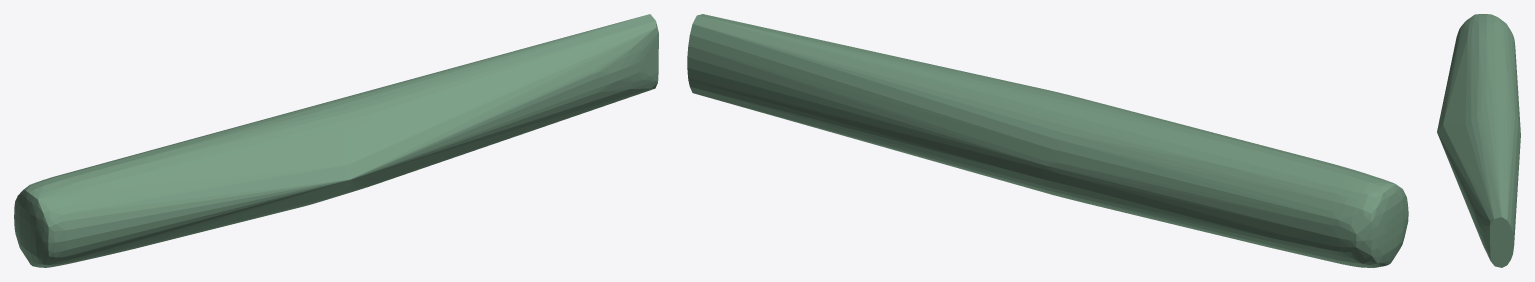
3 views of the same model, side by side, from view 1: azimuth 30°, elevation 25°; view 2: azimuth 150°, elevation 25°; view 3: azimuth 270°, elevation 25° (orthographic). The views are drawn at different scales.
Size of the model in its own units: 0.2337 by 0.0322 by 0.0384.
